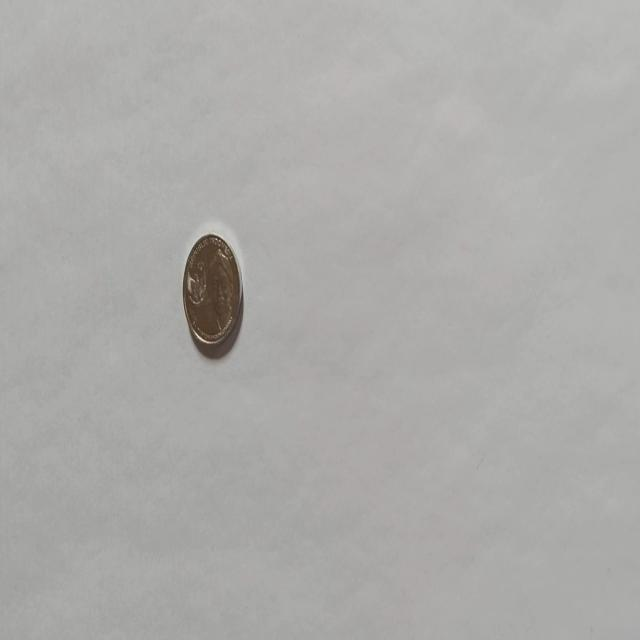dua ratus rupiah: (181, 231, 243, 350)
